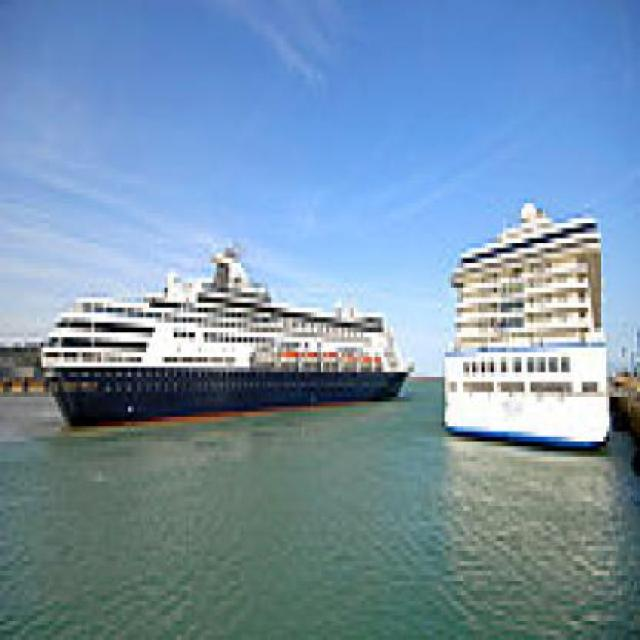cruise: (26, 219, 424, 448), (436, 194, 632, 468)
